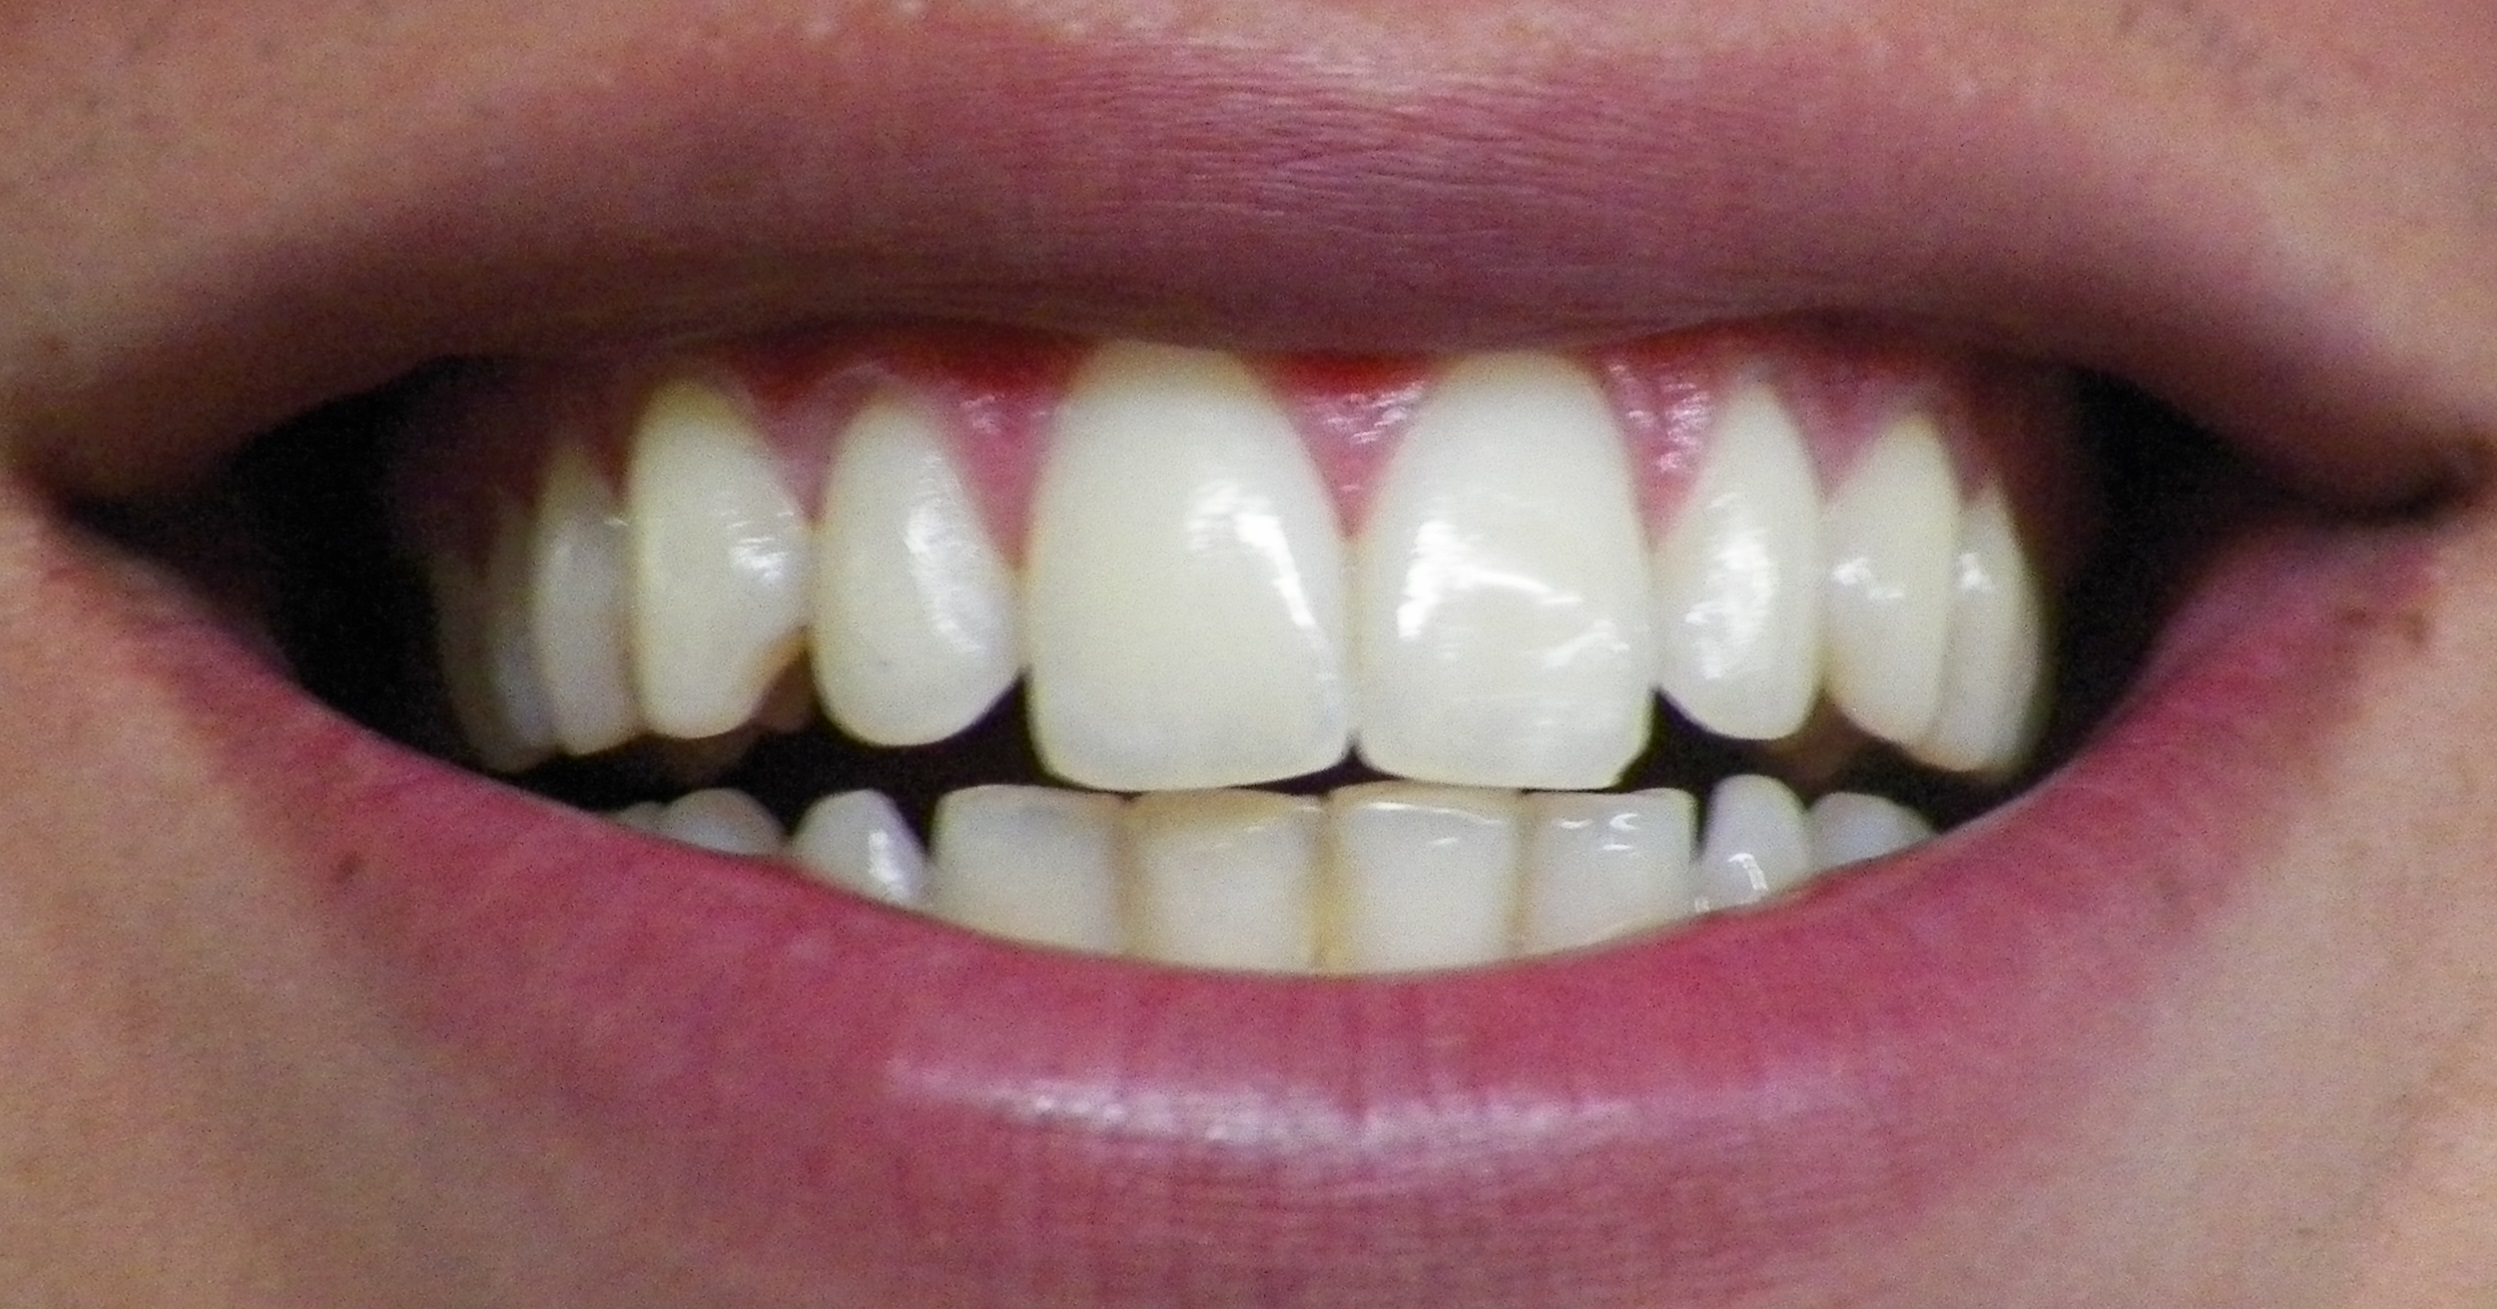boca: (390, 376, 2068, 962)
